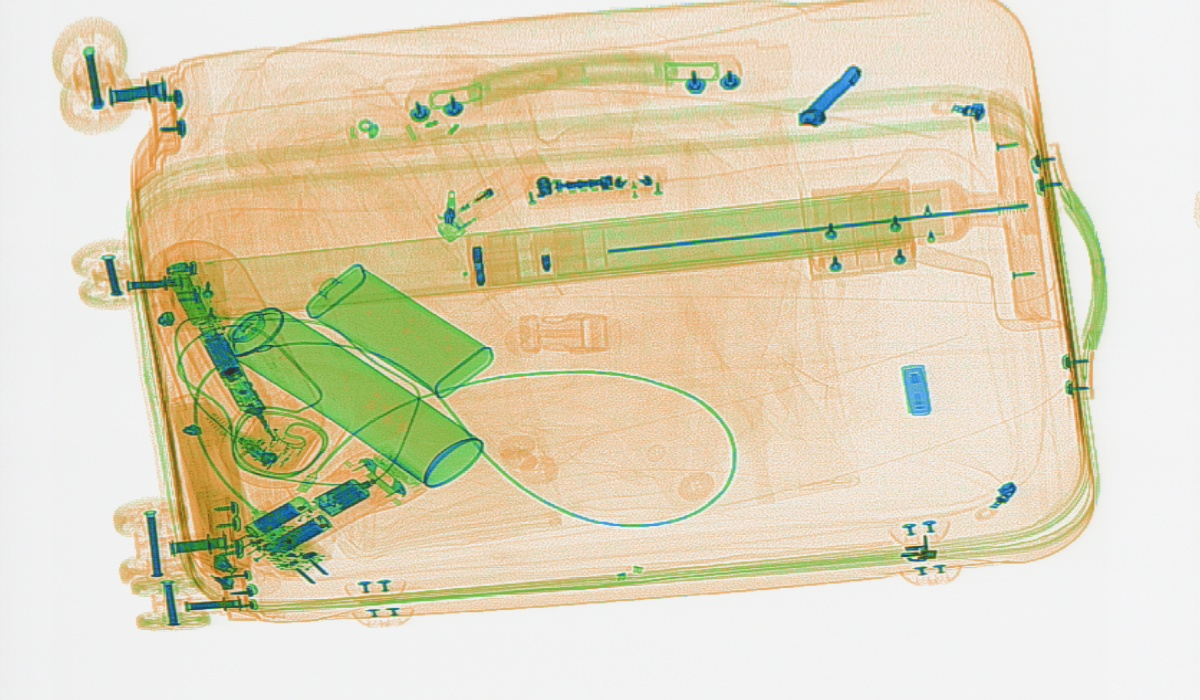lighter: (425, 142, 554, 250)
pressure: (221, 303, 485, 490)
zippooil: (302, 260, 495, 400)
